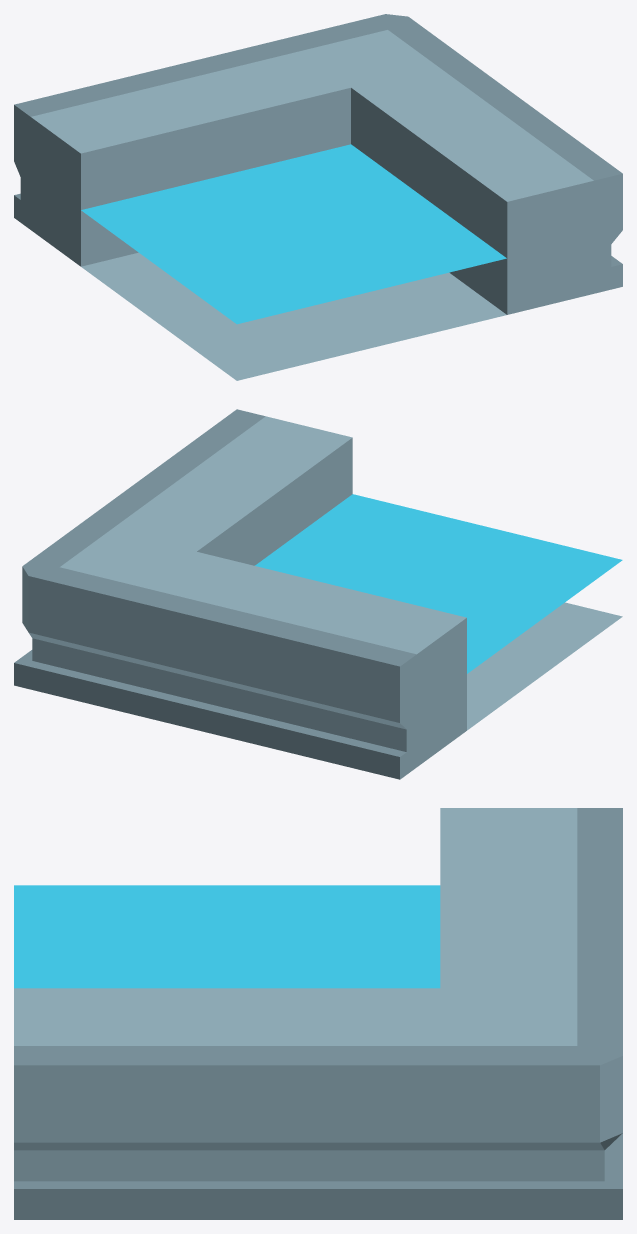
File: fountainCorner.dae
The picture shows the model from 3 angles, top to bottom: view 1: azimuth 30°, elevation 25°; view 2: azimuth 150°, elevation 25°; view 3: azimuth 270°, elevation 25°; orthographic projection. The views are drawn at different scales.
Parts seen in each view (by area): view 1: fountainCorner; view 2: fountainCorner; view 3: fountainCorner.
Boxes of the visible parts, x1,y1,x2,y2 form: fountainCorner: (14, 14, 622, 380); fountainCorner: (14, 409, 622, 779); fountainCorner: (14, 808, 622, 1219).
Size of the model in its own units: 1 by 0.28 by 1.
